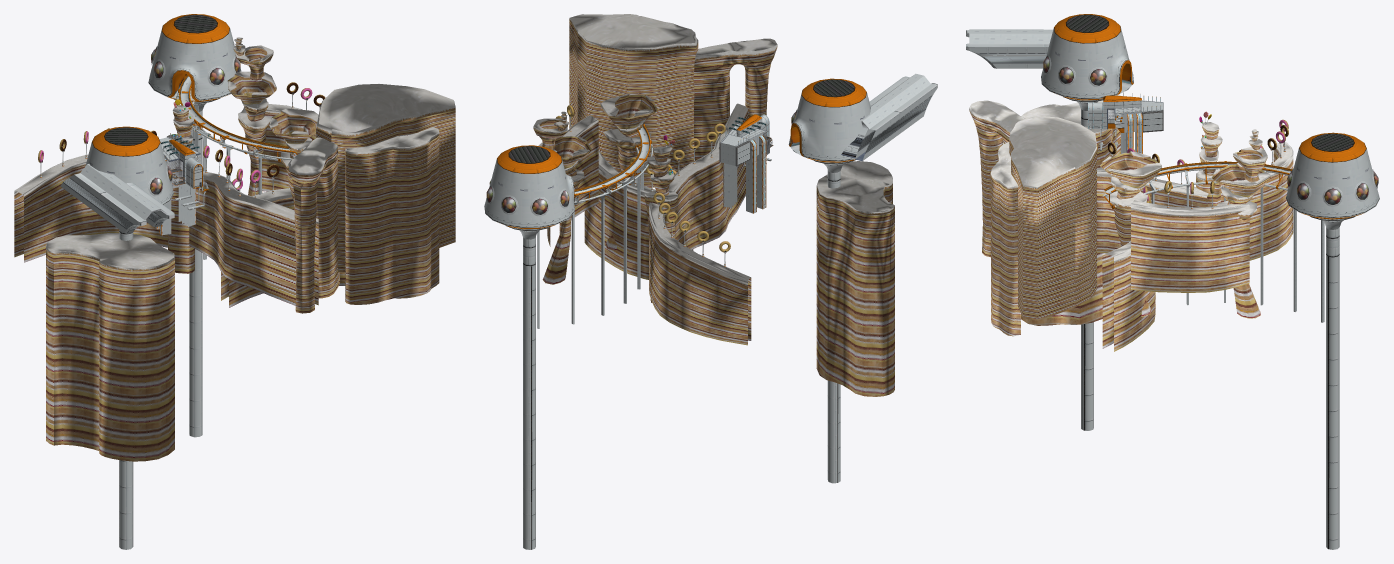
The model's file is stg220_12.obj.
The picture shows the model from 3 angles, left to right: view 1: azimuth 30°, elevation 25°; view 2: azimuth 150°, elevation 25°; view 3: azimuth 270°, elevation 25°; orthographic projection. The views are drawn at different scales.
Parts seen in each view (by area): view 1: polygon138, polygon27, polygon43, polygon26, polygon46, polygon81, polygon85, polygon140, polygon33, polygon93, polygon22, polygon89 (+20 smaller); view 2: polygon27, polygon138, polygon46, polygon81, polygon26, polygon37, polygon43, polygon85, polygon93, polygon140, polygon33, polygon4 (+22 smaller); view 3: polygon27, polygon40, polygon26, polygon81, polygon37, polygon85, polygon93, polygon46, polygon33, polygon138, polygon89, polygon30 (+21 smaller).
Boxes of the visible parts, x1=… form: polygon138: x1=46, y1=251, x2=174, y2=461; polygon27: x1=289, y1=110, x2=455, y2=313; polygon43: x1=189, y1=180, x2=318, y2=305; polygon26: x1=290, y1=84, x2=454, y2=172; polygon46: x1=14, y1=165, x2=167, y2=262; polygon81: x1=151, y1=46, x2=236, y2=437; polygon85: x1=150, y1=28, x2=241, y2=94; polygon140: x1=46, y1=233, x2=173, y2=267; polygon33: x1=227, y1=39, x2=276, y2=196; polygon93: x1=85, y1=142, x2=172, y2=201; polygon22: x1=168, y1=111, x2=194, y2=273; polygon89: x1=119, y1=163, x2=171, y2=549; polygon27: x1=569, y1=21, x2=776, y2=187; polygon138: x1=816, y1=185, x2=894, y2=396; polygon46: x1=649, y1=215, x2=751, y2=345; polygon81: x1=487, y1=184, x2=569, y2=549; polygon26: x1=570, y1=14, x2=776, y2=56; polygon37: x1=584, y1=174, x2=693, y2=279; polygon43: x1=675, y1=112, x2=747, y2=249; polygon85: x1=485, y1=158, x2=573, y2=222; polygon93: x1=790, y1=91, x2=870, y2=155; polygon140: x1=817, y1=161, x2=894, y2=211; polygon33: x1=533, y1=113, x2=592, y2=284; polygon4: x1=537, y1=153, x2=643, y2=328; polygon27: x1=970, y1=113, x2=1096, y2=336; polygon40: x1=1131, y1=211, x2=1249, y2=292; polygon26: x1=970, y1=100, x2=1096, y2=186; polygon81: x1=1288, y1=169, x2=1377, y2=549; polygon37: x1=1102, y1=255, x2=1155, y2=351; polygon85: x1=1287, y1=148, x2=1378, y2=212; polygon93: x1=1042, y1=27, x2=1132, y2=93; polygon46: x1=1221, y1=149, x2=1293, y2=260; polygon33: x1=1211, y1=132, x2=1269, y2=318; polygon138: x1=1021, y1=128, x2=1120, y2=325; polygon89: x1=1043, y1=54, x2=1107, y2=430; polygon30: x1=1100, y1=151, x2=1160, y2=316.
Size of the model in its own units: 4596 by 5154 by 4496.
Materials: 52 (52 with a texture image).
